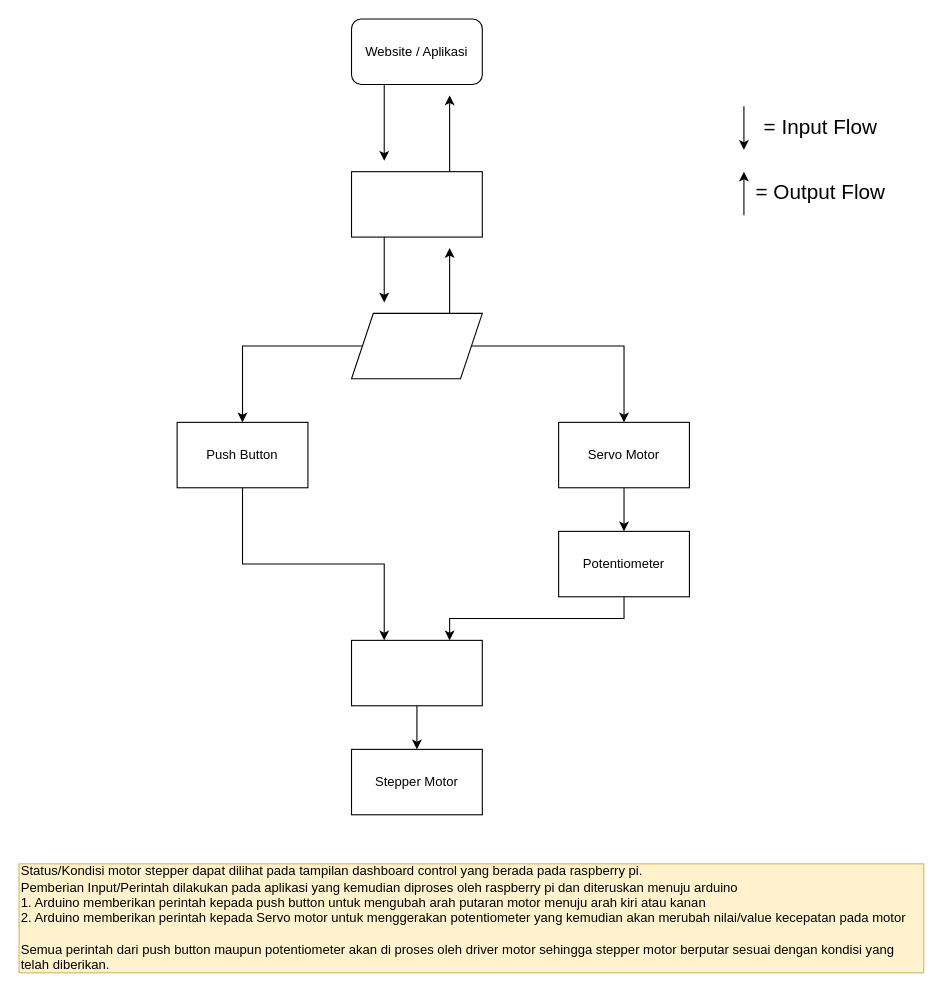
Image size: 943x992. Some labels were removed from this diagram. Here are the shapes that lost their labels. From the top down, the box of each, then its label:
(350, 171, 482, 237): Node-RED [Input] [Raspberry Pi]
(350, 312, 482, 379): Arduino UNO
(350, 639, 482, 706): Driver Motor
